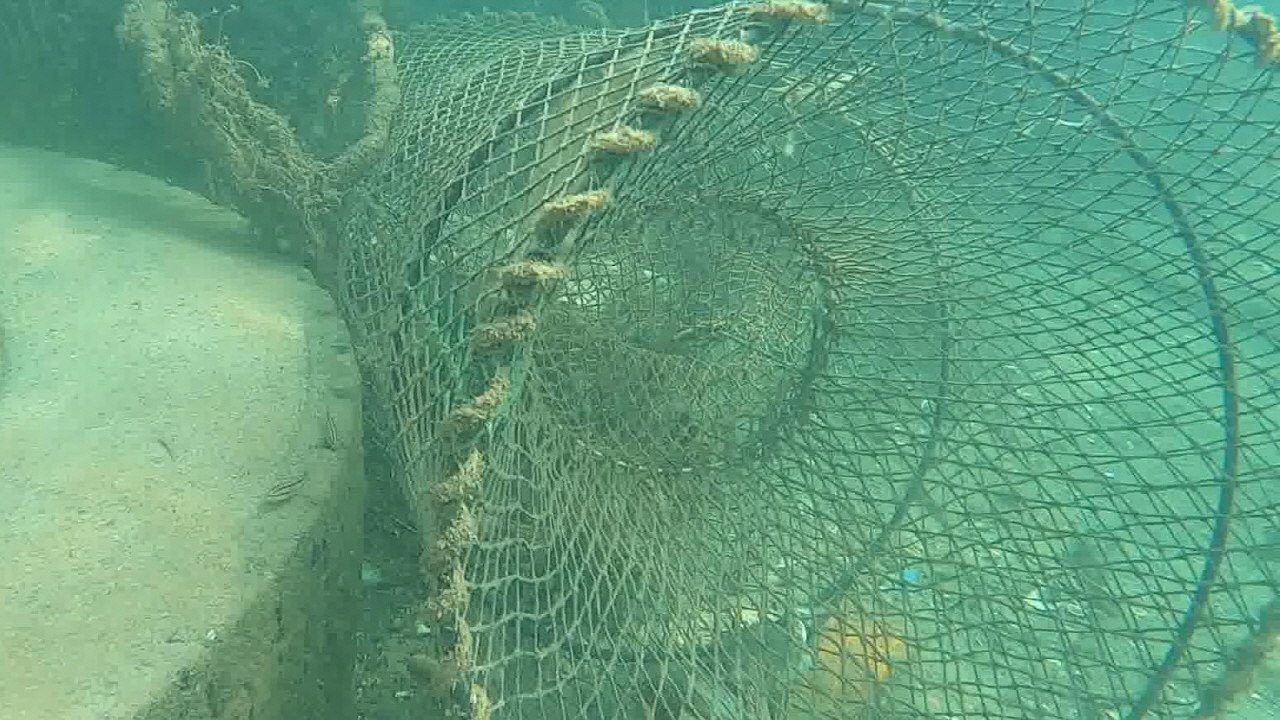spring fish trap: (315, 0, 1280, 720)
